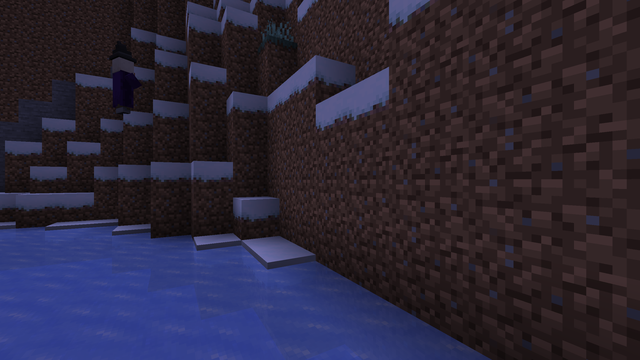sorcieres: (110, 53, 133, 115)
